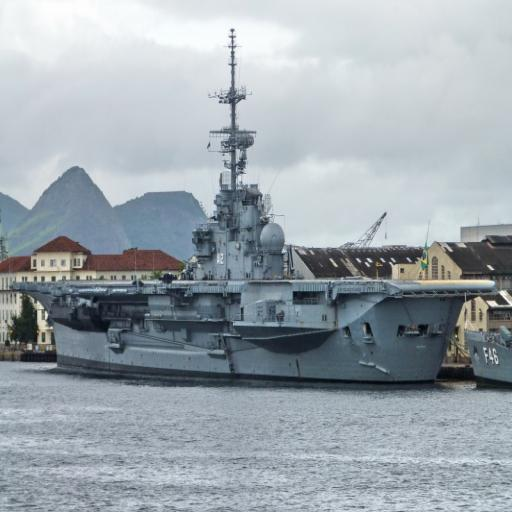Portanaves: (10, 35, 497, 393)
